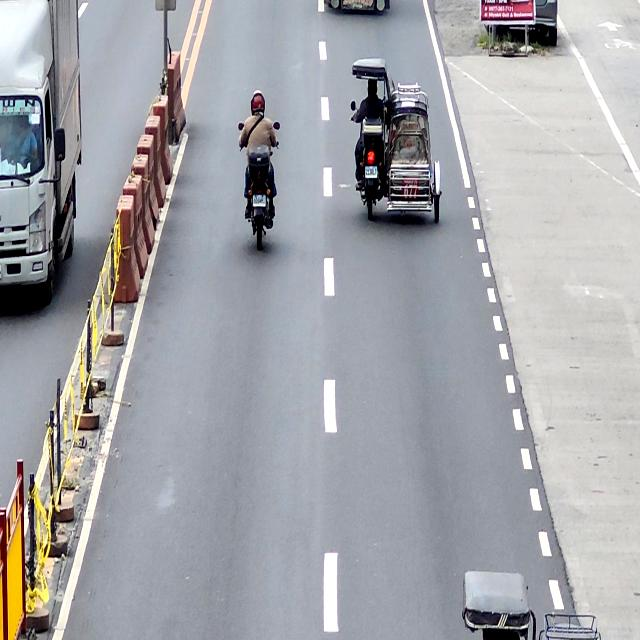License-Plate: (252, 194, 266, 207), (364, 166, 378, 178)
Motorcycle: (238, 117, 280, 248)
Tricycle: (350, 58, 443, 222)
